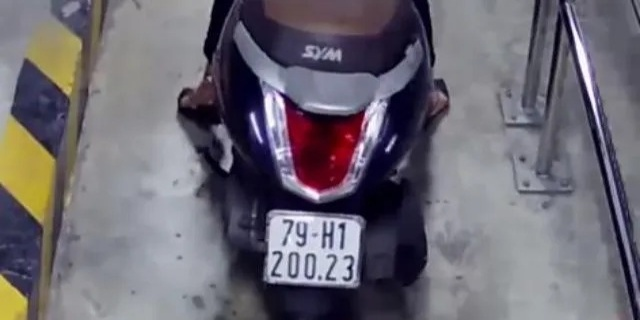bien_so: (265, 209, 360, 290)
